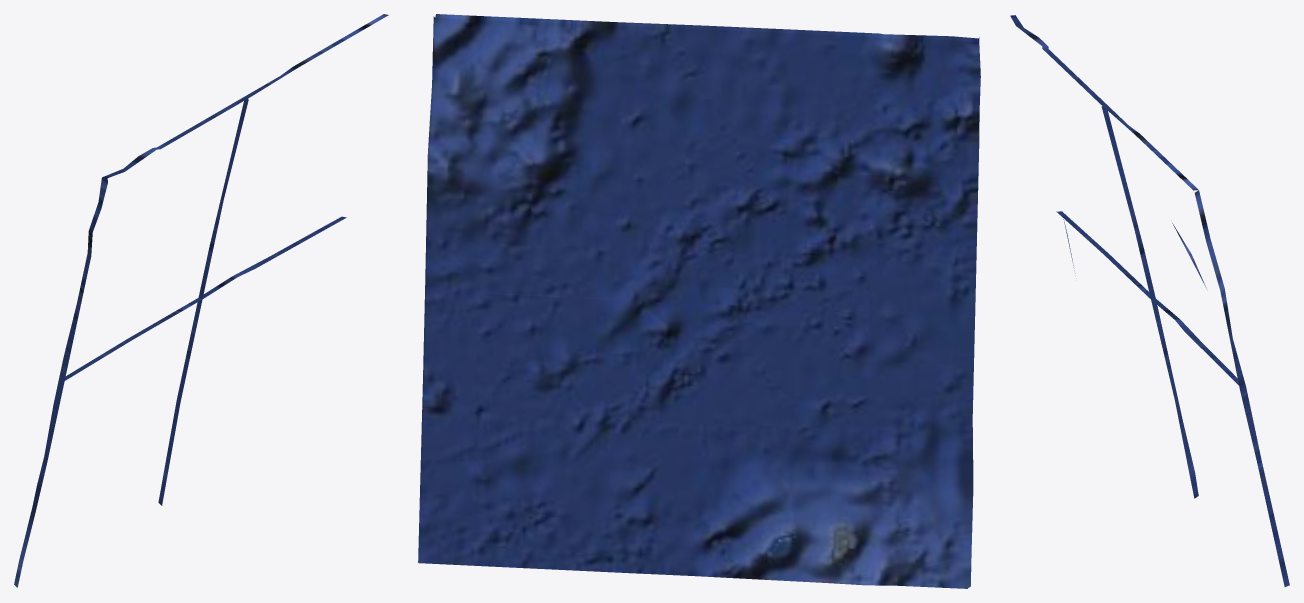
3 views of the same model, side by side, from view 1: azimuth 30°, elevation 25°; view 2: azimuth 150°, elevation 25°; view 3: azimuth 270°, elevation 25° (orthographic). The views are drawn at different scales.
Size of the model in its own units: 310484 by 308936 by 189243.
1 material, 1 textured.
